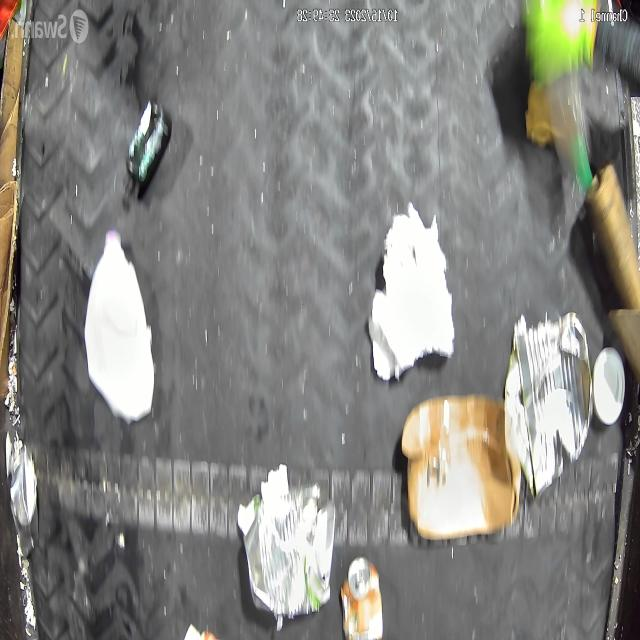can: (515, 313, 593, 496), (340, 554, 385, 638)
milk_jug: (83, 229, 156, 426)
